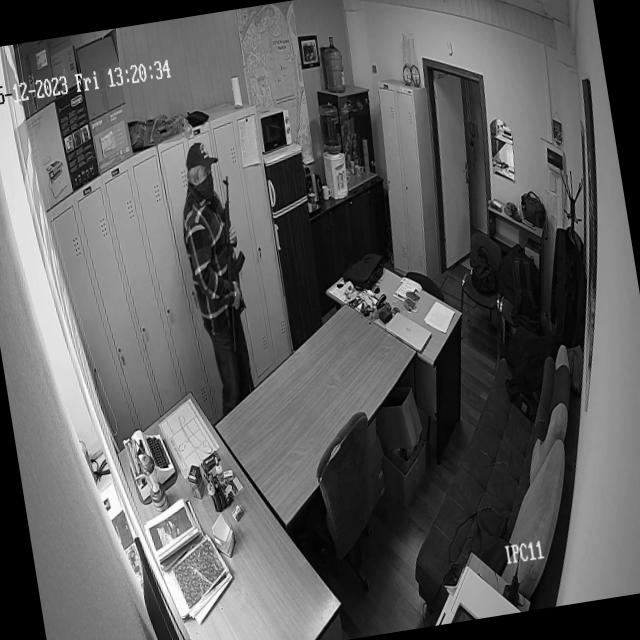gun: (206, 171, 262, 359)
person with a gun: (166, 134, 266, 392)
